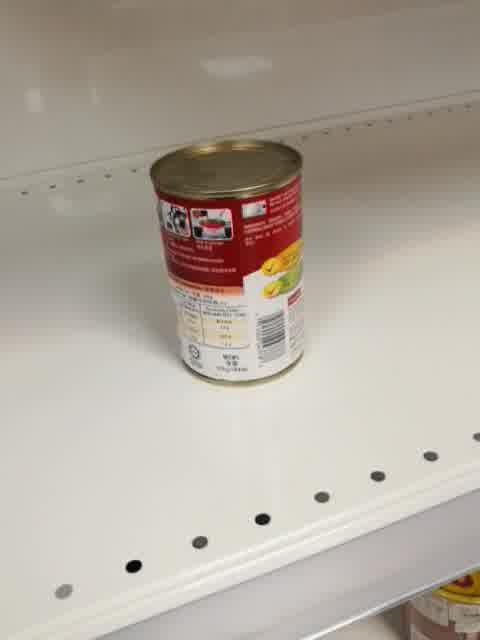tomatosoup: (148, 138, 308, 390)
